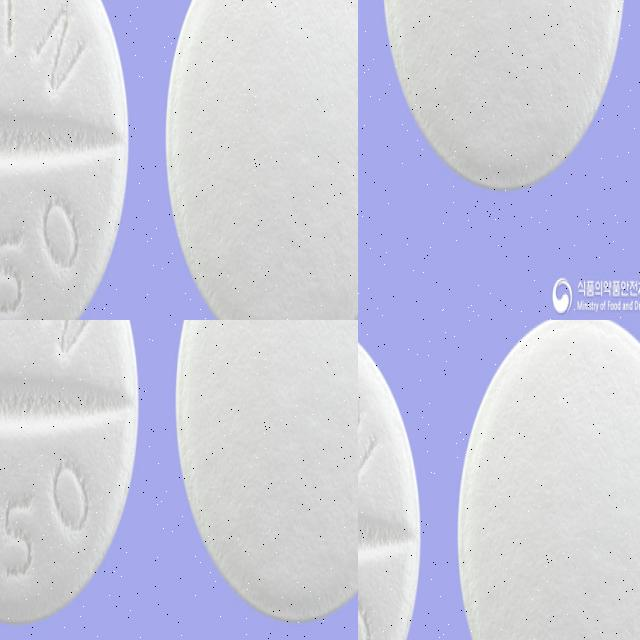Avelox: (0, 196, 292, 320)
CTcin: (455, 320, 640, 640), (358, 320, 423, 640)
Clacin: (0, 432, 295, 640)
